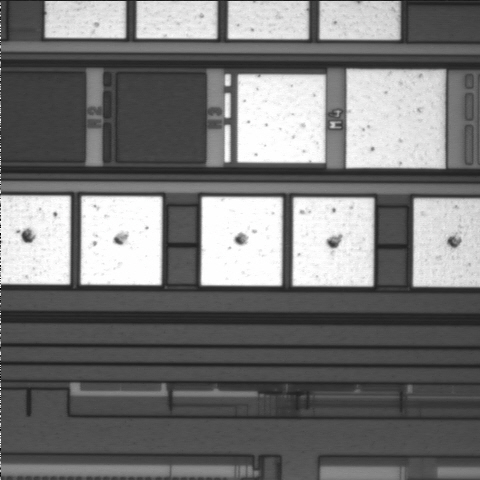pad: (346, 69, 445, 168), (237, 75, 325, 163), (81, 196, 162, 285), (201, 197, 282, 286), (293, 197, 374, 286)
